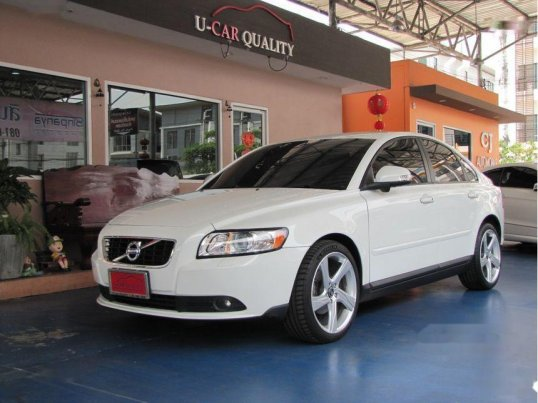sedan: (88, 131, 506, 345)
